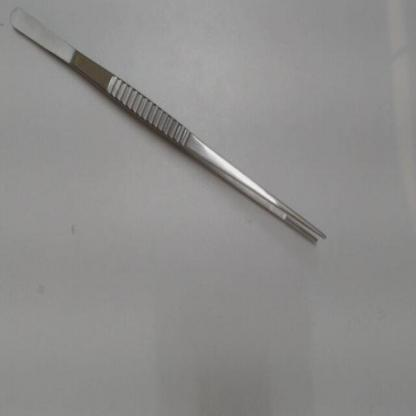DeBakey Dissector: (3, 2, 360, 268)
